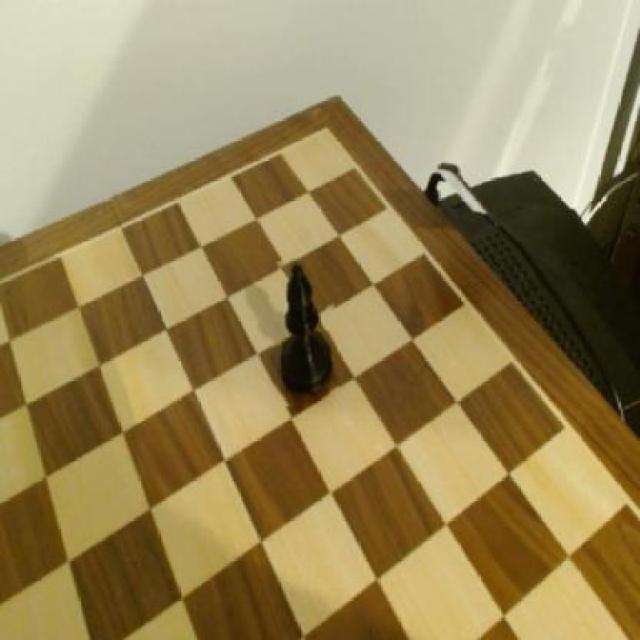bishop: (271, 257, 339, 407)
